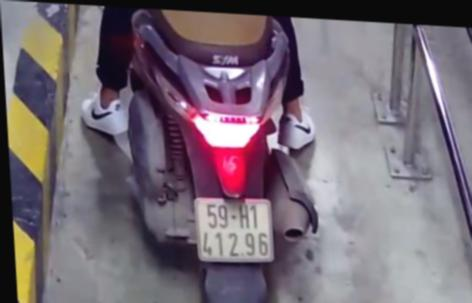License_Plate: (192, 190, 284, 269)
